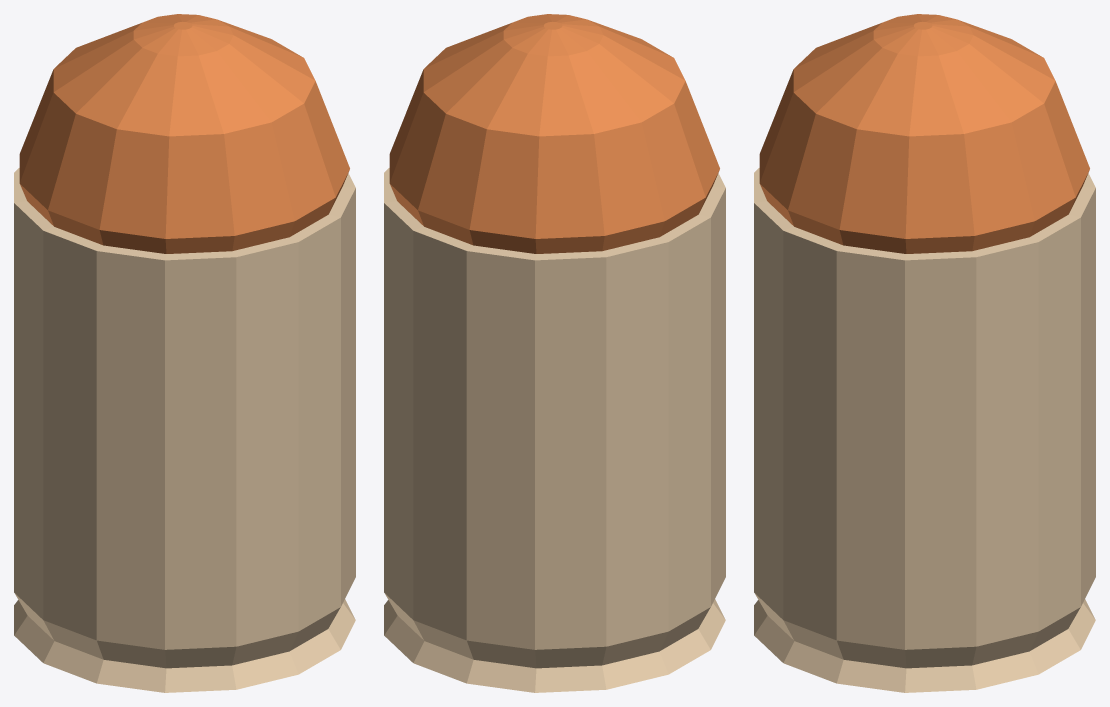
File: Smg Bullet.glb
3 views of the same model, side by side, from view 1: azimuth 30°, elevation 25°; view 2: azimuth 150°, elevation 25°; view 3: azimuth 270°, elevation 25° (orthographic).
Parts seen in each view (by area): view 1: Cylinder; view 2: Cylinder; view 3: Cylinder.
Boxes of the visible parts, left/top/right/bottom form: Cylinder: left=14, top=14, right=355, bottom=692; Cylinder: left=384, top=14, right=725, bottom=692; Cylinder: left=754, top=14, right=1095, bottom=692.
Size of the model in its own units: 0.0199 by 0.038 by 0.0198.
